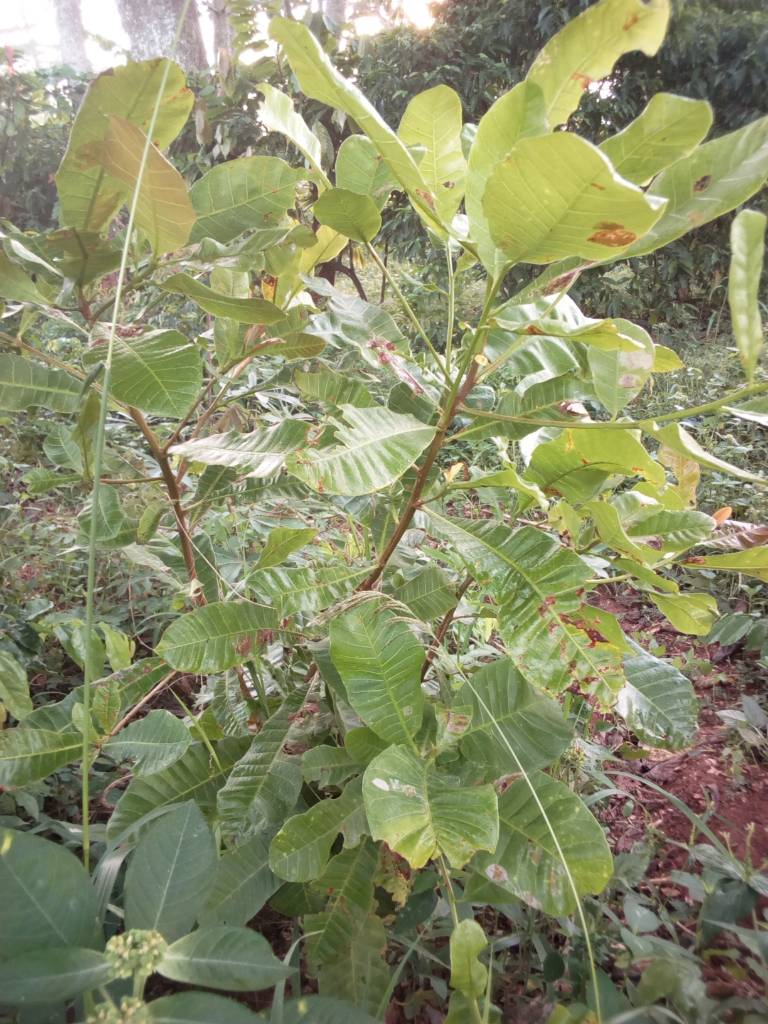Dysdercus wolkerii: (483, 107, 671, 296)
